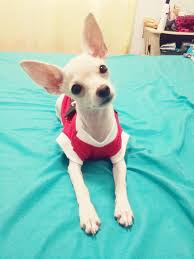chihuahua: (13, 7, 144, 237)
